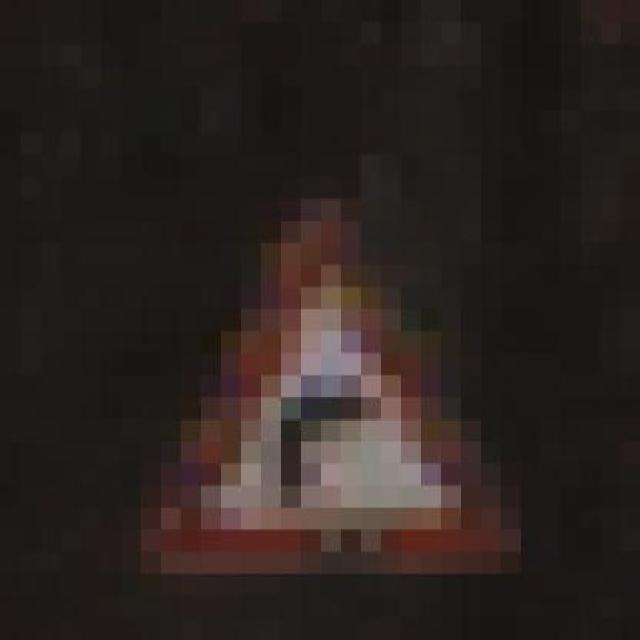Dangerous Rright Curve Ahead: (147, 175, 527, 596)
